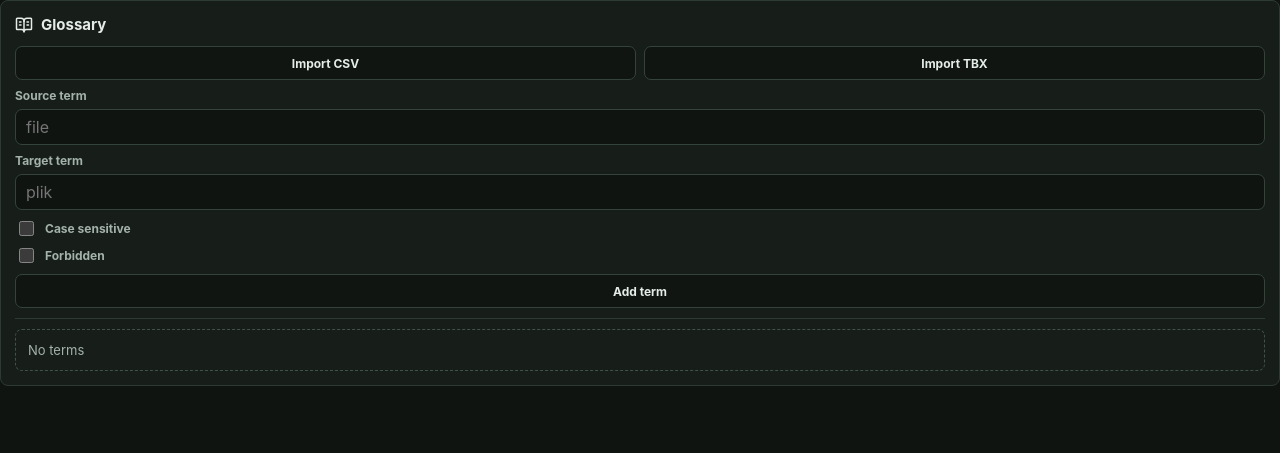
Test: adds a glossary term for the active document languages
The width and height of the screenshot is (1280, 453).
Type "click here" into the field labelled "Source term" at (640, 127), box [15,109,1265,145]
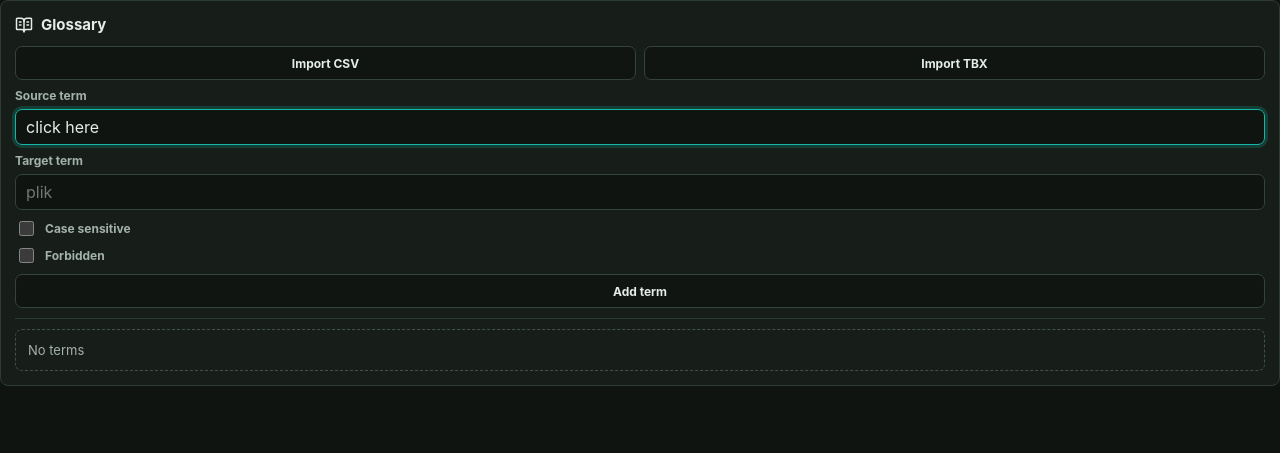
Type "kliknij tutaj" into the field labelled "Target term" at (640, 192), box [15,174,1265,210]
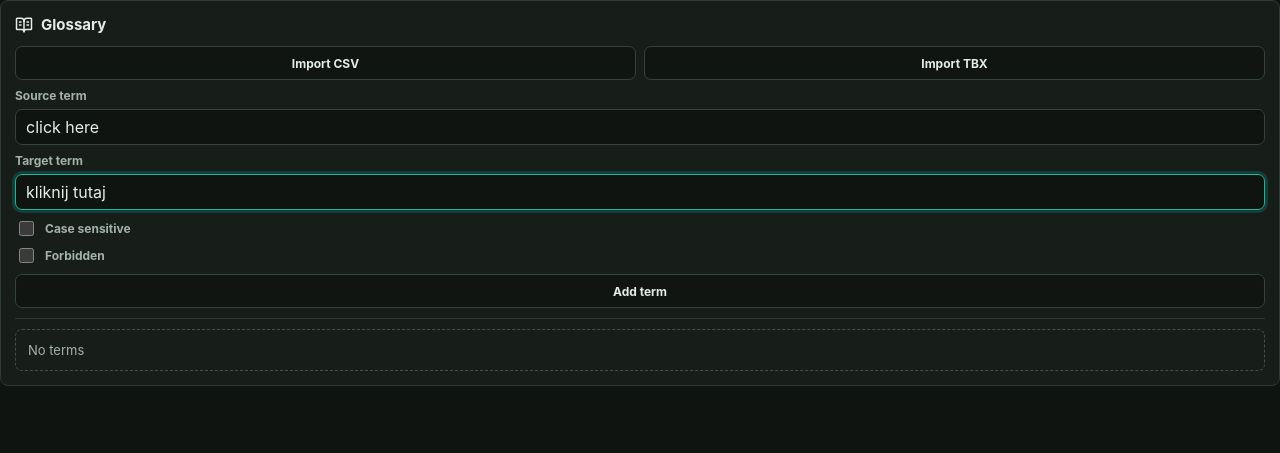
Click the checkbox labelled "Forbidden" at (26, 256), box [19,248,34,263]
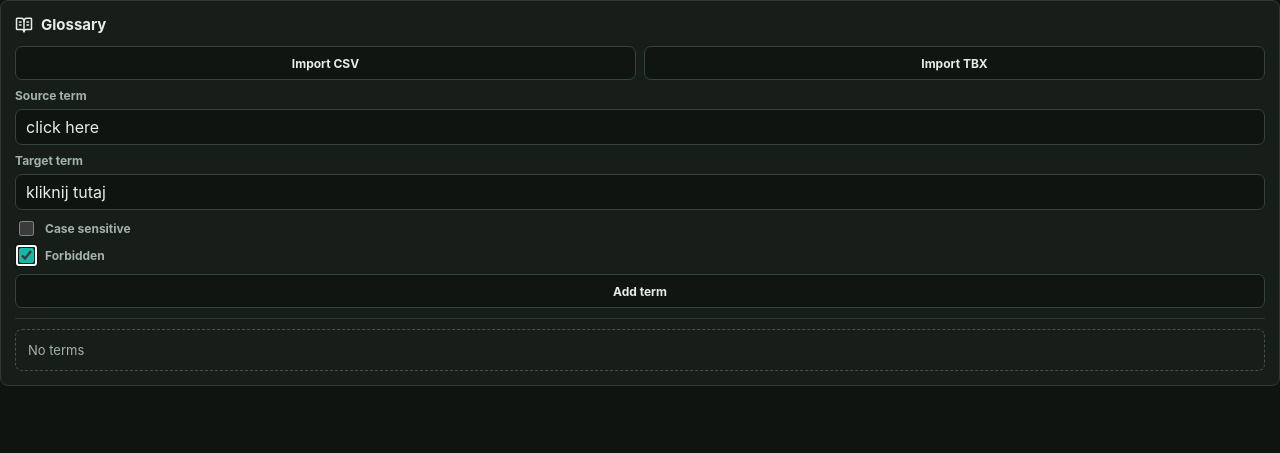
Click the button "Add term" at (640, 291), box [15,274,1265,308]
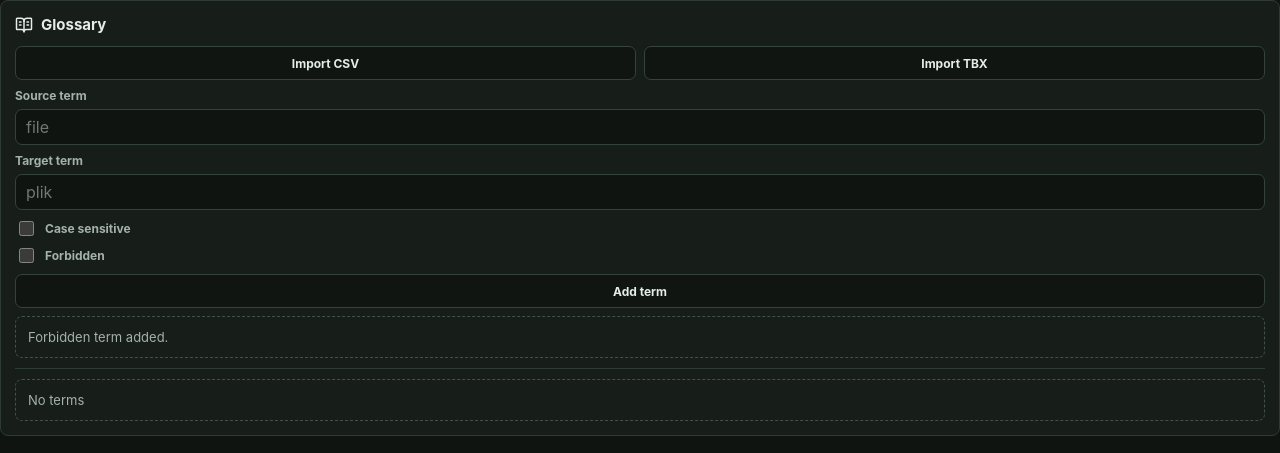
Check: the text "Forbidden term added." is shown, box [15,316,1265,358]
